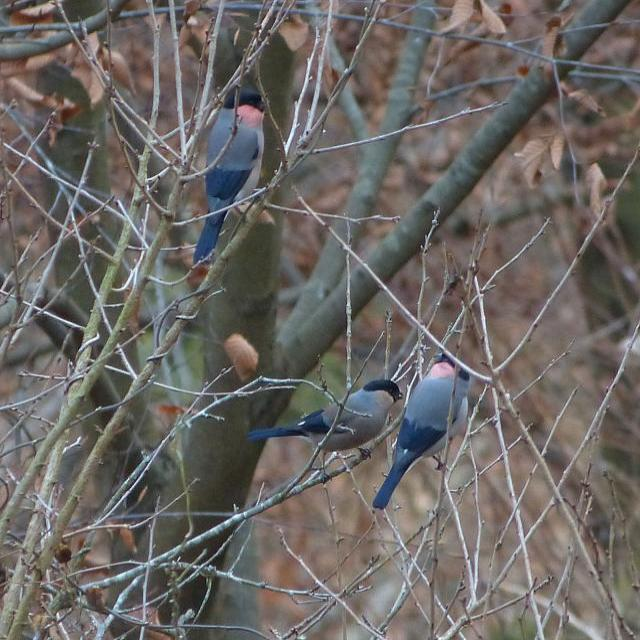bird: (170, 84, 278, 266), (379, 350, 481, 512), (256, 371, 398, 456)
